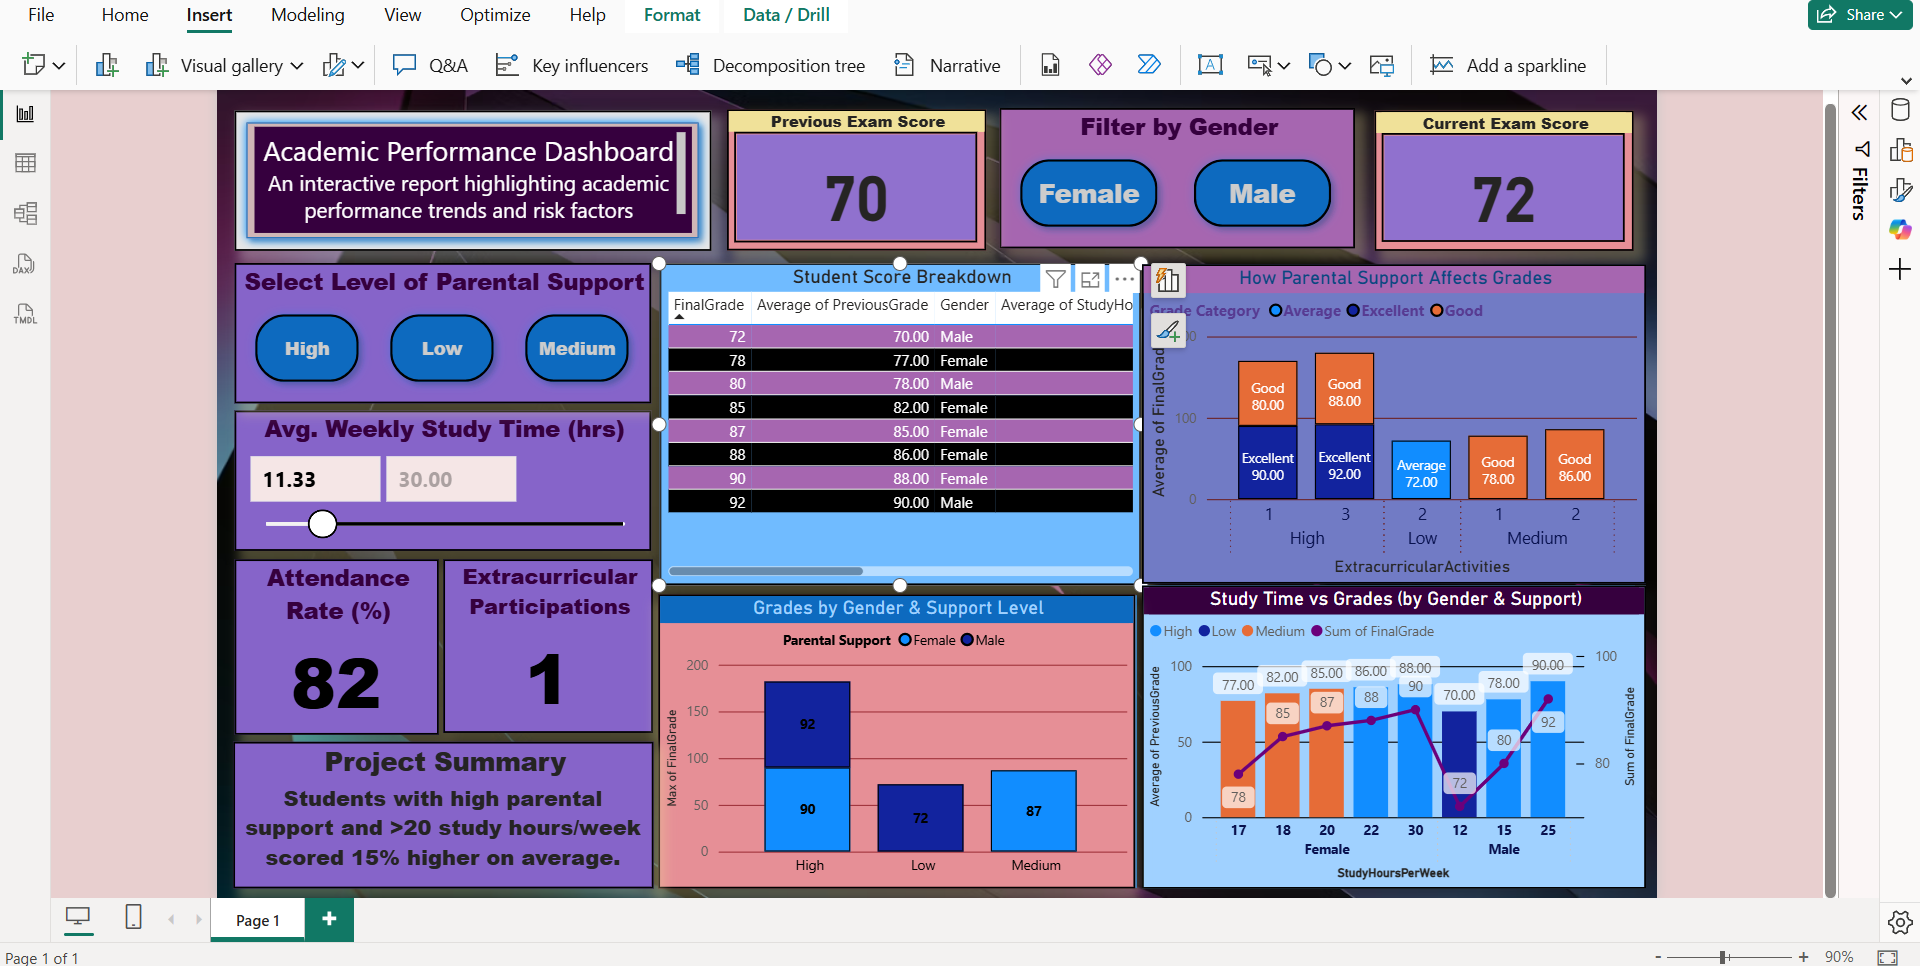

Layout of this report page (visuals, bound fields, positions):
{"tool":"powerbi","page":{"name":"Page 1","canvas":[1280,720],"ordinal":0},"visuals":[{"type":"shape","box":[402.9,451.4,414.3,260],"z":0},{"type":"shape","box":[822,161.3,438,278.7],"z":1000},{"type":"shape","box":[407.1,162.9,414.3,278.6],"z":2000},{"type":"shape","box":[822,442,438,260],"z":3000},{"type":"shape","box":[15,20,424,125],"z":4000},{"type":"textbox","title":"Academic Performance Dashboard","box":[33,34,388.5,94.5],"z":5000},{"type":"advancedSlicerVisual","title":"Filter by Gender","fields":{"Values":["student_performance.Gender"]},"box":[695.2,17.6,315.7,125],"z":6000},{"type":"slicer","title":"Avg. Weekly Study Time (hrs)","fields":{"Values":["student_performance.StudyHoursPerWeek"]},"box":[15,286.2,370,125],"z":7000},{"type":"cardVisual","title":"Previous Exam Score","fields":{"Data":["Min(student_performance.PreviousGrade)"]},"box":[453,18.9,230,125.6],"z":8000},{"type":"advancedSlicerVisual","title":"Select Level of Parental Support","fields":{"Values":["student_performance.ParentalSupport"]},"box":[15,155,370,125],"z":9000},{"type":"card","title":"Attendance Rate (%)","fields":{"Values":["Min(student_performance.AttendanceRate)"]},"box":[15,418.6,181.4,156],"z":10000},{"type":"cardVisual","title":"Current Exam Score","fields":{"Data":["Min(student_performance.FinalGrade)"]},"box":[1028.8,20,230,125],"z":11000},{"type":"card","title":"Extracurricular Participations","fields":{"Values":["Min(student_performance.ExtracurricularActivities)"]},"box":[201.4,418.6,186.4,154],"z":12000},{"type":"tableEx","title":"Student Score Breakdown","fields":{"Values":["student_performance.FinalGrade","Avg(student_performance.PreviousGrade)","student_performance.Gender","Avg(student_performance.StudyHoursPerWeek)","Avg(student_performance.AttendanceRate)","Avg(student_performance.ExtracurricularActivities)","student_performance.ParentalSupport"]},"box":[392.8,155.6,428.3,286.1],"z":13000},{"type":"lineStackedColumnComboChart","title":"Study Time vs Grades (by Gender & Support)","fields":{"Category":["student_performance.Gender","student_performance.StudyHoursPerWeek"],"Y":["Avg(student_performance.PreviousGrade)"],"Y2":["Sum(student_performance.FinalGrade)"],"Series":["student_performance.ParentalSupport"]},"box":[822,442,448,269.3],"z":14000},{"type":"columnChart","title":"Grades by Gender & Support Level","fields":{"Category":["student_performance.ParentalSupport","student_performance.AttendanceRate"],"Y":["Max(student_performance.FinalGrade)"],"Series":["student_performance.Gender"]},"box":[392.7,450,424,261.3],"z":15000},{"type":"columnChart","title":"How Parental Support Affects Grades","fields":{"Category":["student_performance.ParentalSupport","student_performance.ExtracurricularActivities"],"Series":["student_performance.GradeCategory"],"Y":["Avg(student_performance.FinalGrade)"]},"box":[822.2,156.1,447.8,283.9],"z":16000},{"type":"textbox","title":"Project Summary","box":[14.3,581.4,373.6,130],"z":17000}]}

Visuals, with their boxes on the page's 1280x720 design canvas (x1, y1, x2, y2). These are canvas units, not pixel positions in the 1920x966 screenshot, which may show the page scaled, cropped or inside an application window:
shape: bbox=[403, 451, 817, 711]
shape: bbox=[822, 161, 1260, 440]
shape: bbox=[407, 163, 821, 442]
shape: bbox=[822, 442, 1260, 702]
shape: bbox=[15, 20, 439, 145]
"Academic Performance Dashboard" textbox: bbox=[33, 34, 422, 128]
"Filter by Gender" advancedSlicerVisual: bbox=[695, 18, 1011, 143]
"Avg. Weekly Study Time (hrs)" slicer: bbox=[15, 286, 385, 411]
"Previous Exam Score" cardVisual: bbox=[453, 19, 683, 144]
"Select Level of Parental Support" advancedSlicerVisual: bbox=[15, 155, 385, 280]
"Attendance Rate (%)" card: bbox=[15, 419, 196, 575]
"Current Exam Score" cardVisual: bbox=[1029, 20, 1259, 145]
"Extracurricular Participations" card: bbox=[201, 419, 388, 573]
"Student Score Breakdown" tableEx: bbox=[393, 156, 821, 442]
"Study Time vs Grades (by Gender & Support)" lineStackedColumnComboChart: bbox=[822, 442, 1270, 711]
"Grades by Gender & Support Level" columnChart: bbox=[393, 450, 817, 711]
"How Parental Support Affects Grades" columnChart: bbox=[822, 156, 1270, 440]
"Project Summary" textbox: bbox=[14, 581, 388, 711]
